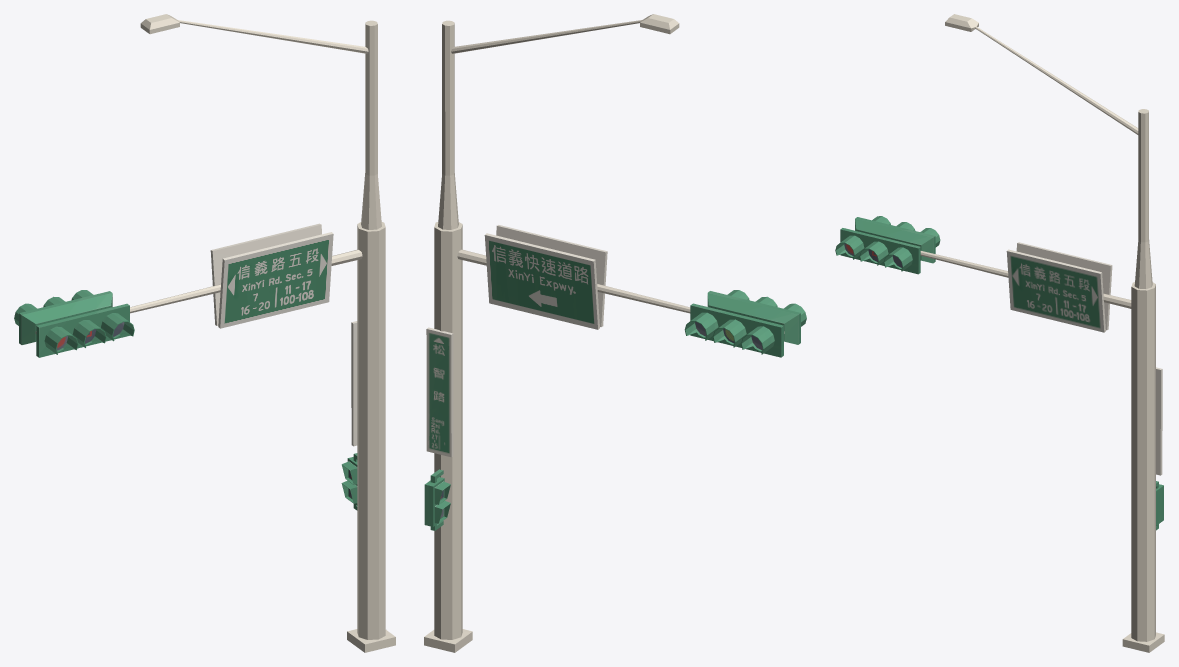
The model's file is Feux.glb.
3 renders of one model, left to right at view 1: azimuth 30°, elevation 25°; view 2: azimuth 150°, elevation 25°; view 3: azimuth 330°, elevation 25°, orthographic. The views are drawn at different scales.
Visible parts, largest first — view 1: Feux.001; view 2: Feux.001; view 3: Feux.001.
Part boxes in pixels (x1=…): Feux.001: x1=14, y1=14, x2=395, y2=652; Feux.001: x1=424, y1=14, x2=806, y2=652; Feux.001: x1=835, y1=14, x2=1164, y2=652.
Bounding box in the file's own units: 3.89 × 7.02 × 0.803.
1 material, 1 textured.
